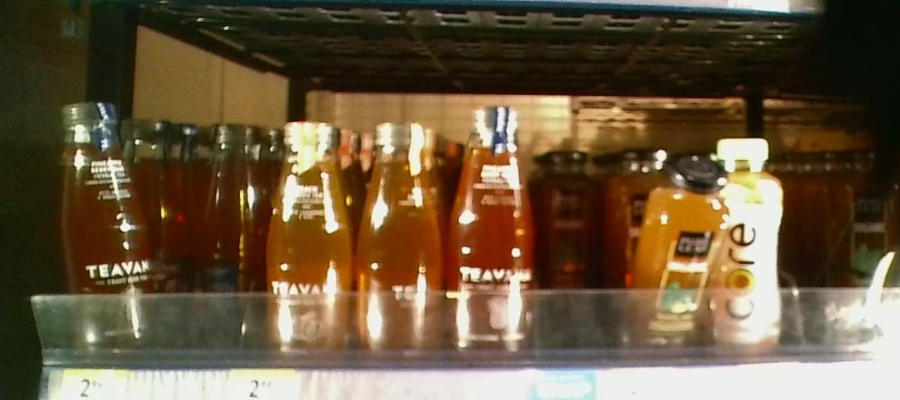bottle: (60, 105, 165, 350), (448, 107, 541, 355), (357, 115, 444, 355), (269, 118, 356, 355), (191, 125, 264, 350), (639, 154, 722, 341), (725, 131, 785, 353), (543, 152, 603, 324)
